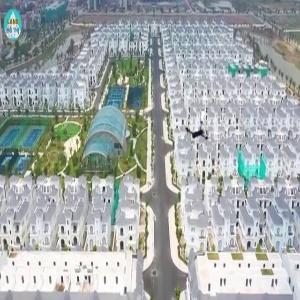drone: (178, 110, 217, 149)
